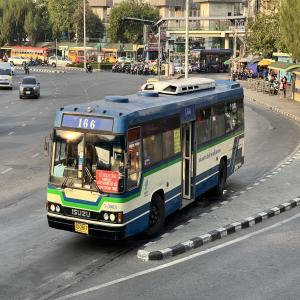BMTA-bus: (45, 76, 245, 241)
Bus Line Number: (75, 114, 100, 131)
Bus Side Number: (103, 201, 118, 210)
Destination Sign: (95, 168, 119, 195)
